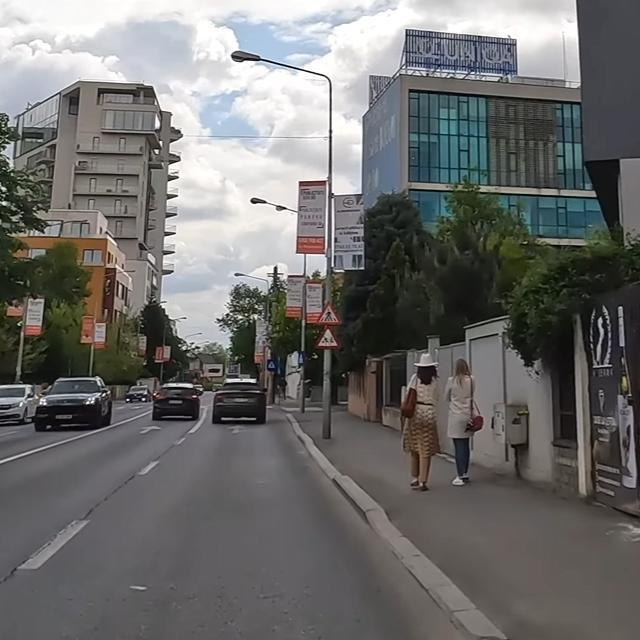warn_crosswalk: (315, 301, 342, 325)
